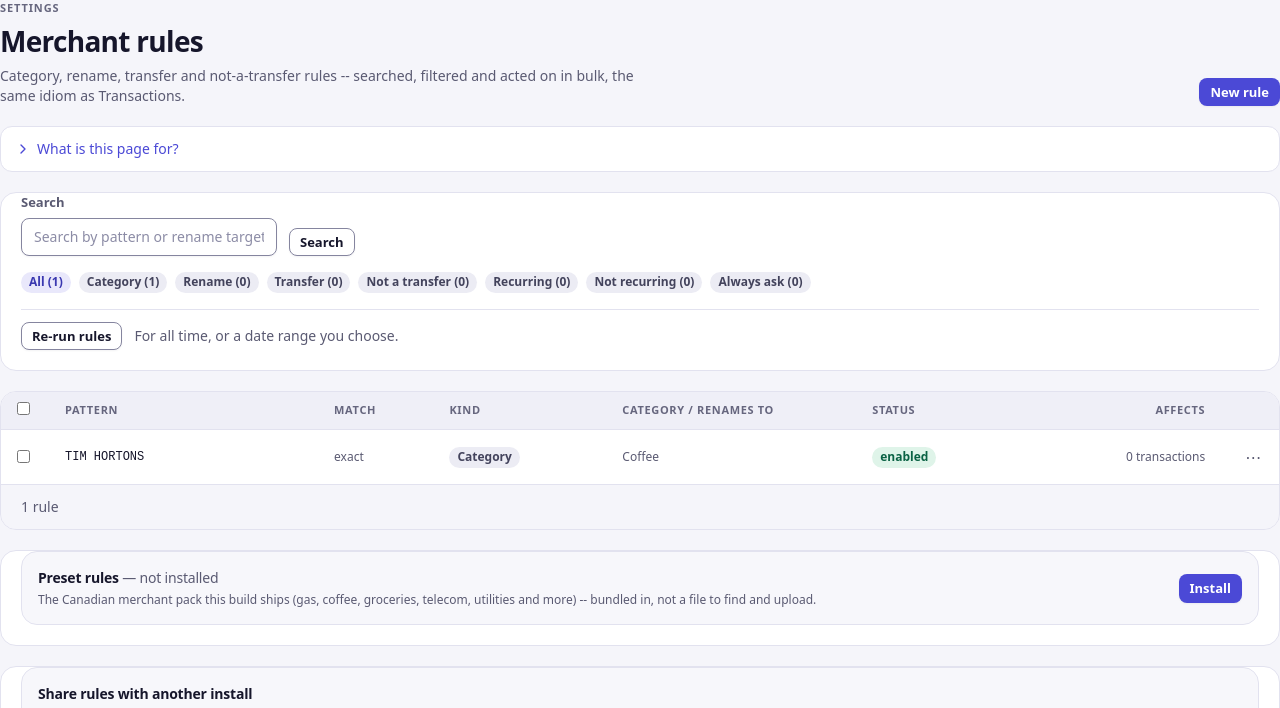
Test: MerchantRulesClient — bulk delete confirm (RowDialog, item 10) › cancelling the bulk delete confirm submits nothing and closes the dialog
The image size is (1280, 708).
Click the checkbox named "Select rule TIM HORTONS": (24, 456) [17,450,30,463]
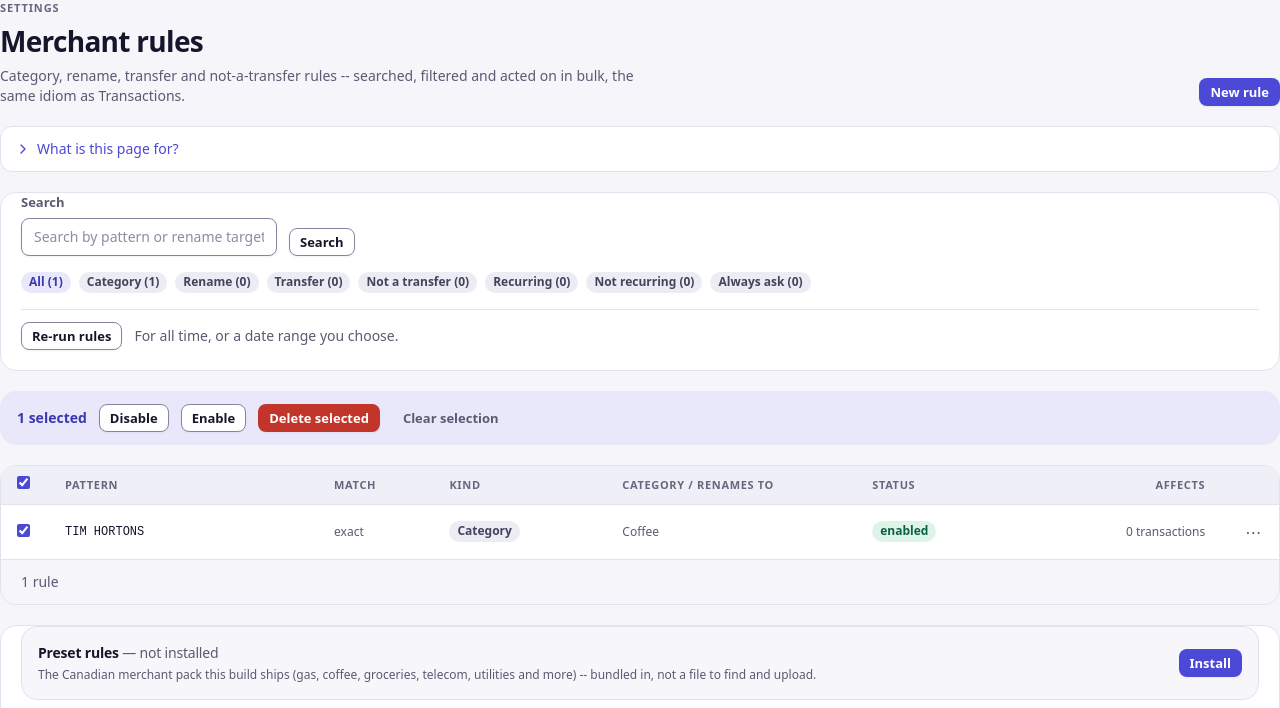
Click the button "Delete selected": (319, 418) [258,404,380,432]
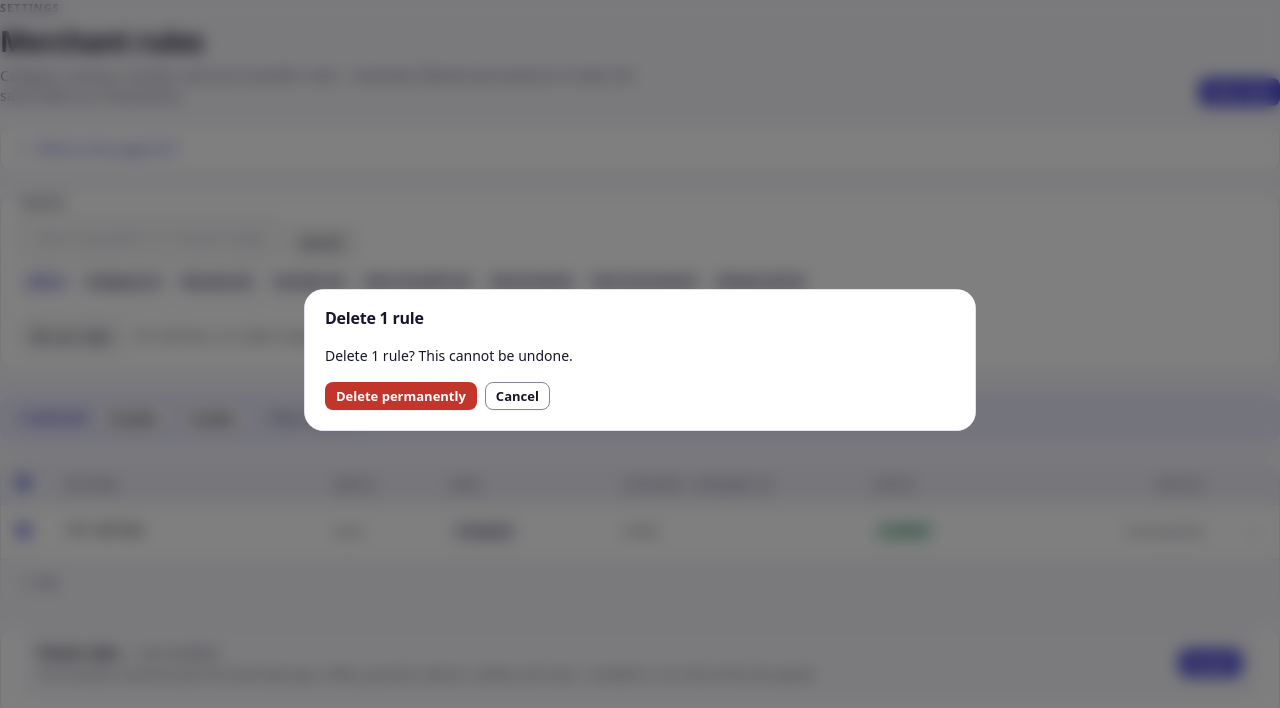
Click the button "Cancel": (517, 396) [485,382,550,410]
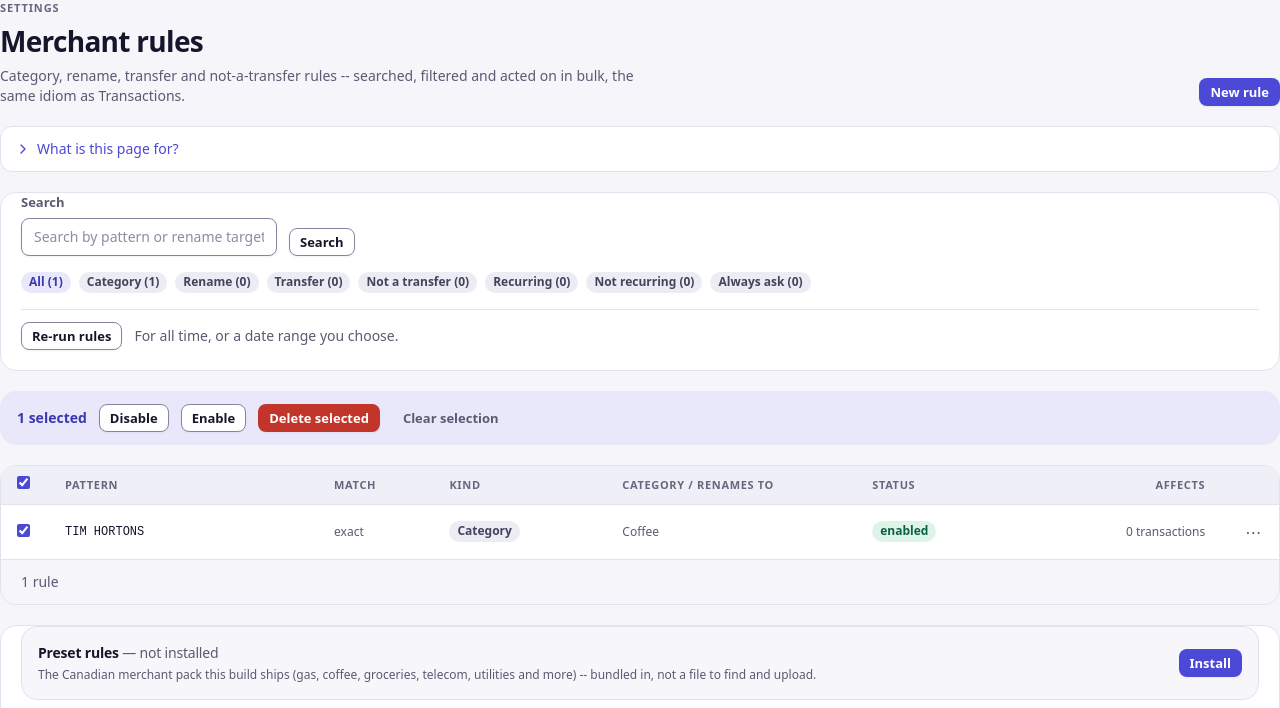
Expected: the dialog is gone
Expected: the button "Delete permanently" is gone
